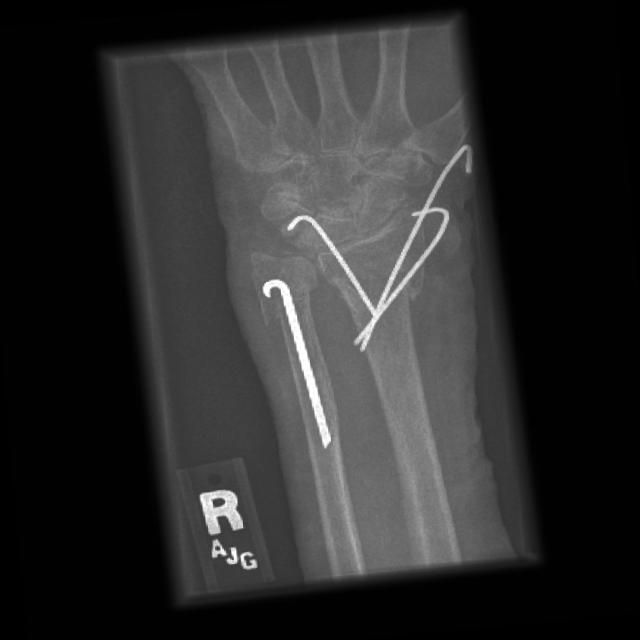fingers positive: (238, 216, 456, 325)
